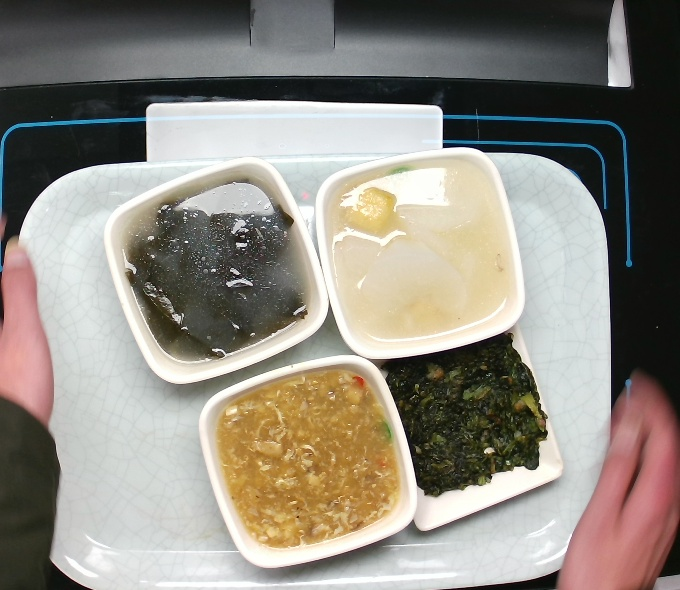wcq-HaiDaiPaiGuTang: (112, 175, 321, 368)
wcq-LuoBoYouPaoTang: (323, 156, 515, 342)
wcq-QinCaiBing: (379, 331, 551, 497)
wcq-SuanLaGeng: (216, 368, 405, 549)
